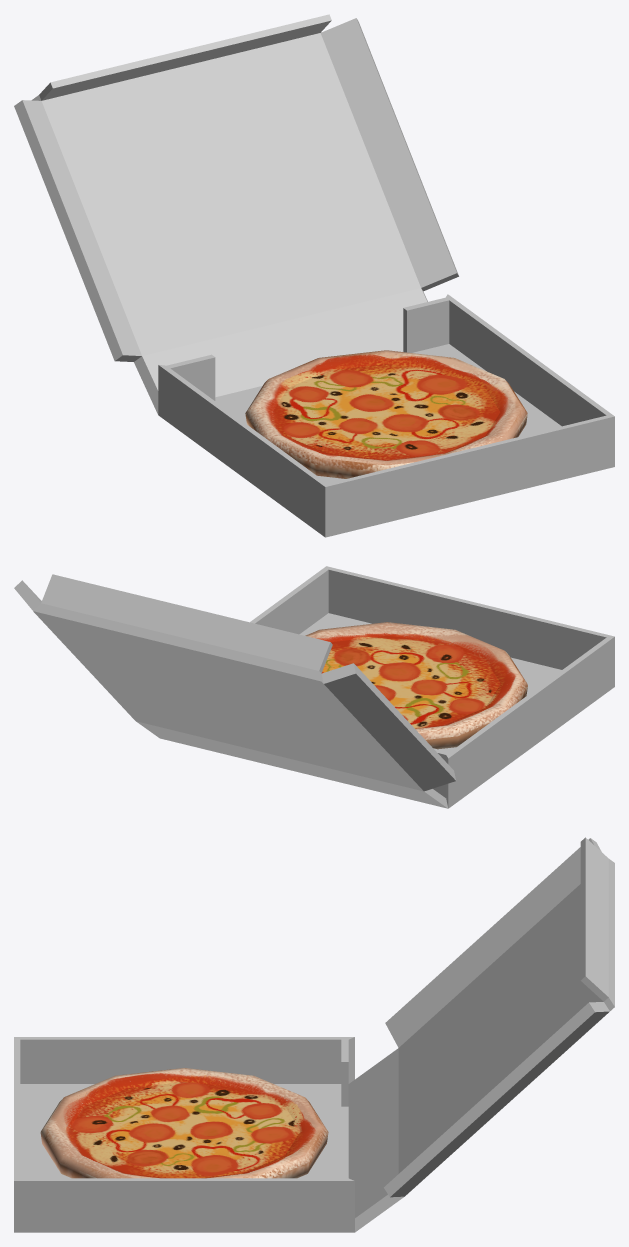
The model's file is CaixadePizza.fbx.
3 renders of one model, top to bottom at view 1: azimuth 30°, elevation 25°; view 2: azimuth 150°, elevation 25°; view 3: azimuth 270°, elevation 25°, orthographic. The views are drawn at different scales.
Visible parts, largest first — view 1: CaixadePizza, Pizza; view 2: CaixadePizza, Pizza; view 3: CaixadePizza, Pizza.
Boxes of the visible parts, box(x1,y1,x2,y2) form: CaixadePizza: box(14, 14, 614, 537); Pizza: box(245, 350, 527, 478); CaixadePizza: box(14, 566, 614, 808); Pizza: box(305, 622, 527, 749); CaixadePizza: box(14, 837, 614, 1232); Pizza: box(40, 1068, 328, 1178).
Bounding box in the file's own units: 0.5607 × 0.3877 × 0.8321.
